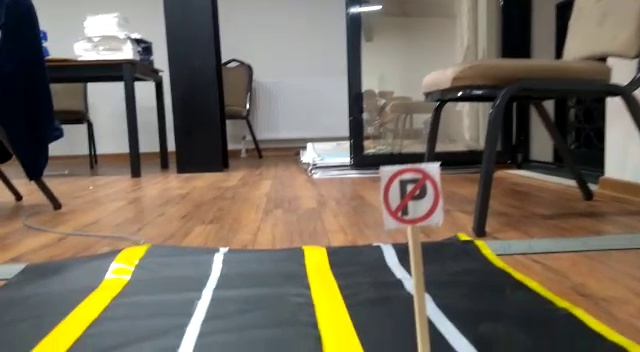park_yapilmaz: (381, 165, 441, 224)
